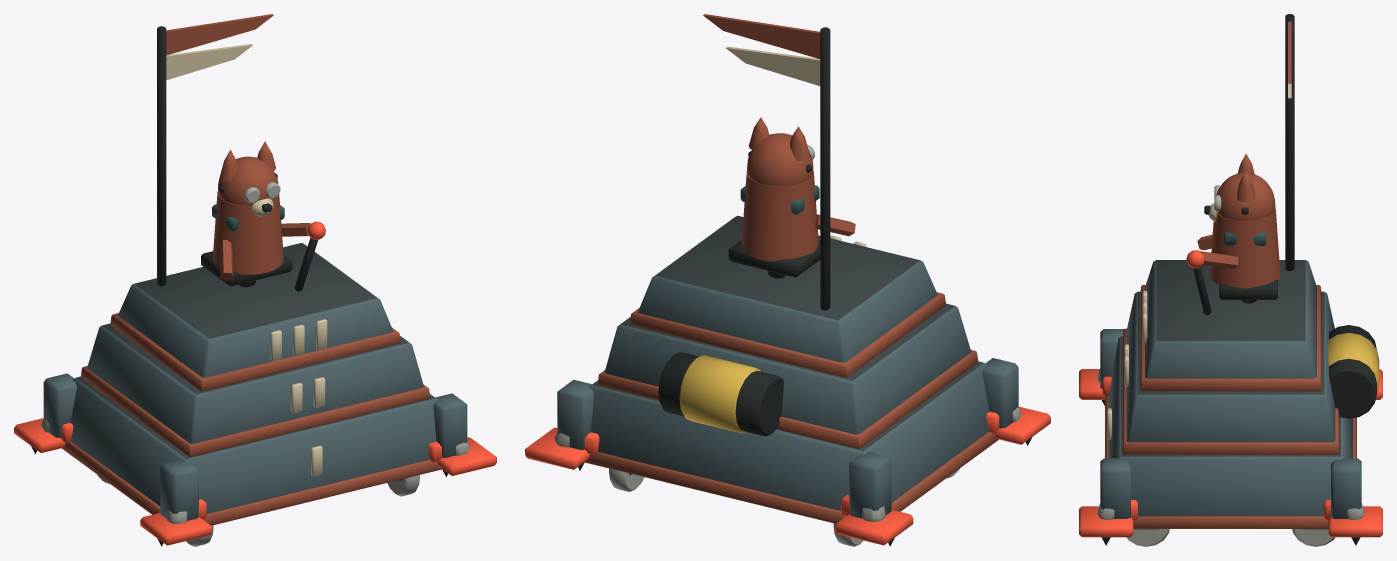
File: enemy_ballast_heavy.glb
The picture shows the model from 3 angles, left to right: view 1: azimuth 30°, elevation 25°; view 2: azimuth 150°, elevation 25°; view 3: azimuth 270°, elevation 25°; orthographic projection. The views are drawn at different scales.
Visible parts, largest first — view 1: BallastBody, BallastBrakes; view 2: BallastBody, BallastBrakes; view 3: BallastBody, BallastBrakes.
Boxes of the visible parts, x1=… form: BallastBody: x1=61, y1=14, x2=441, y2=546; BallastBrakes: x1=14, y1=373, x2=496, y2=546; BallastBody: x1=584, y1=14, x2=999, y2=546; BallastBrakes: x1=525, y1=358, x2=1050, y2=546; BallastBody: x1=1102, y1=14, x2=1379, y2=546; BallastBrakes: x1=1079, y1=329, x2=1382, y2=545.
Size of the model in its own units: 3.22 by 4.2 by 2.58.
